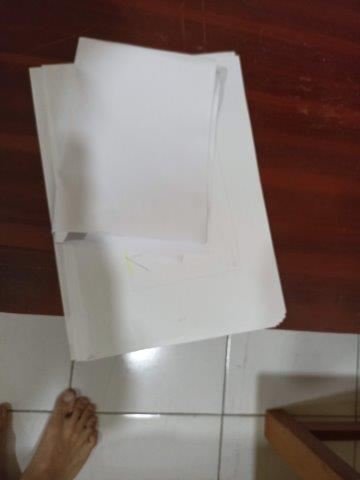kertas: (29, 37, 286, 361)
